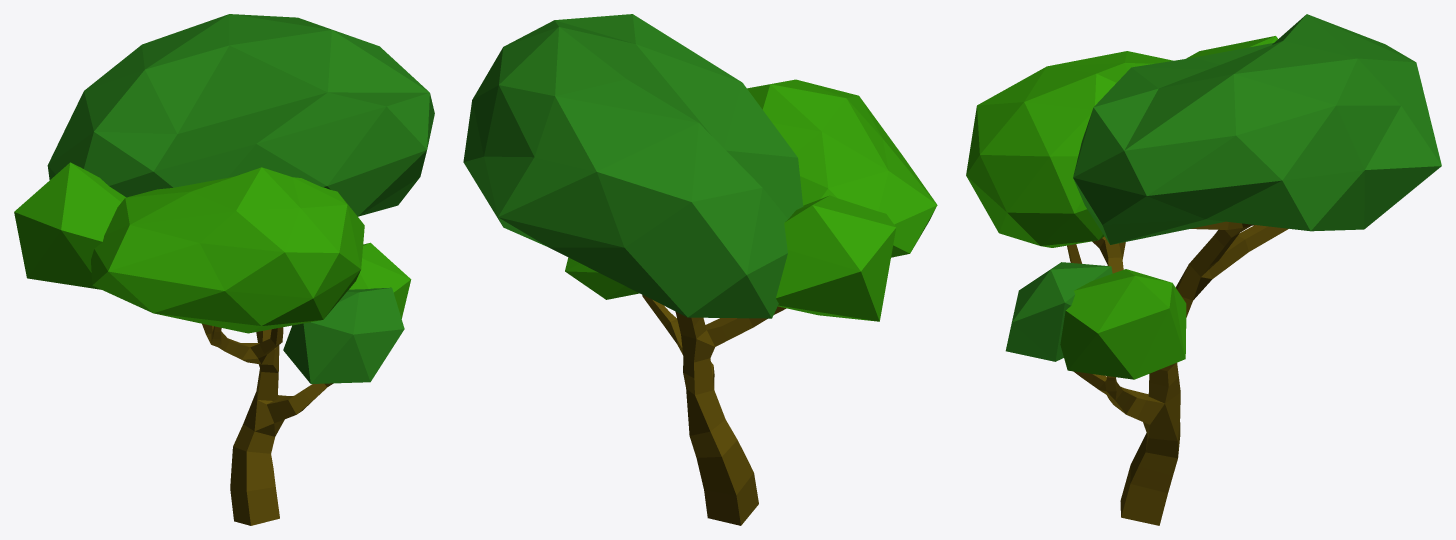
The model's file is Tree2.fbx.
3 views of the same model, side by side, from view 1: azimuth 30°, elevation 25°; view 2: azimuth 150°, elevation 25°; view 3: azimuth 270°, elevation 25° (orthographic). The views are drawn at different scales.
Visible parts, largest first — view 1: Cube.002; view 2: Cube.002; view 3: Cube.002.
Part boxes in pixels (x1,y1,x2,y2): Cube.002: [14, 14, 434, 525]; Cube.002: [463, 14, 937, 525]; Cube.002: [966, 14, 1441, 525].
Size of the model in its own units: 1287 by 1486 by 1259.
